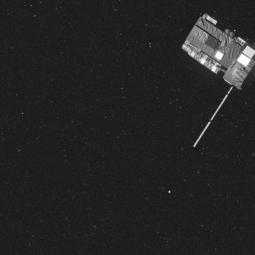soho: (159, 16, 255, 150)
